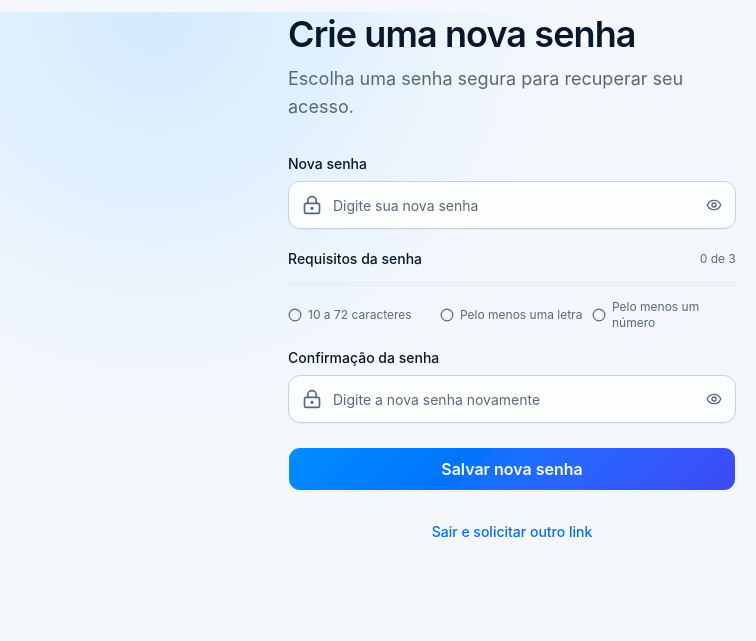
it: UpdatePasswordForm › shows safe feedback for invalid_fields
Type "nova-senha1" into the password field labelled "Nova senha". click: x=512, y=205
box: [288,181,736,229]
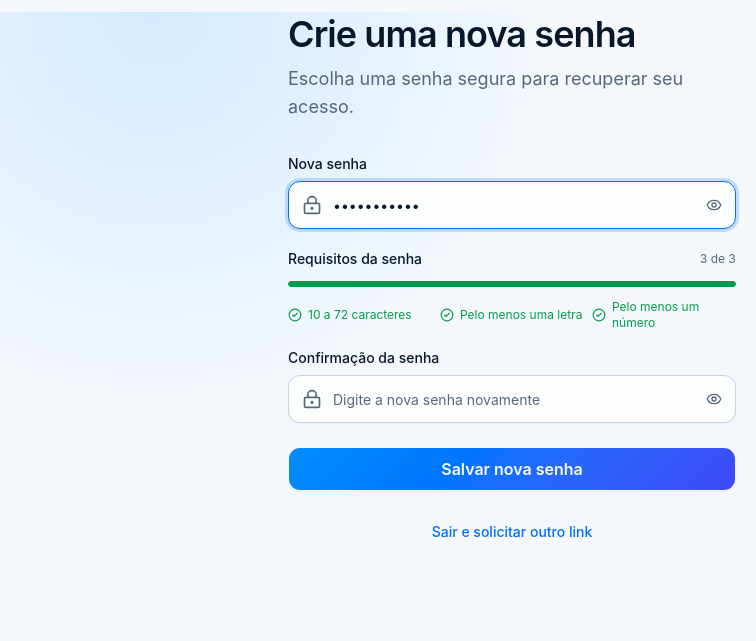
Type "nova-senha1" into the password field labelled "Confirmação da senha". click: x=512, y=399
box: [288,375,736,423]
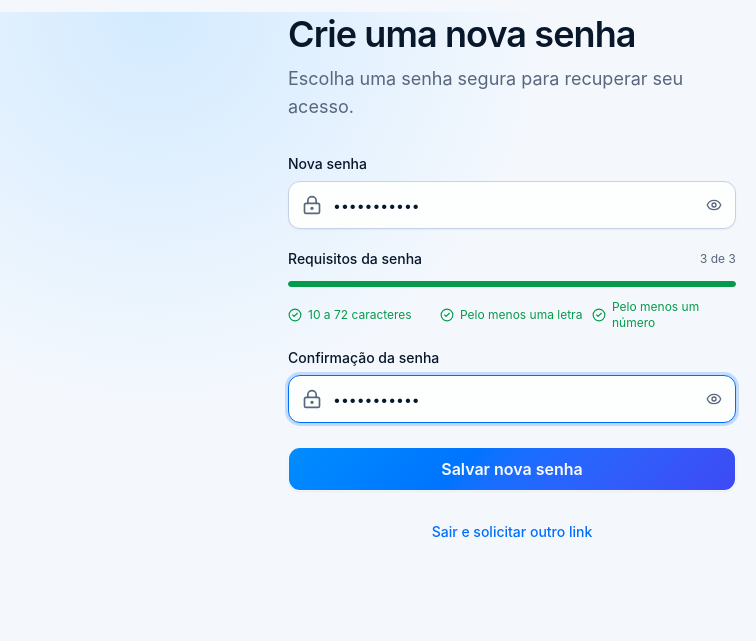
Click the button "Salvar nova senha". click: x=512, y=469
box: [288,447,736,491]
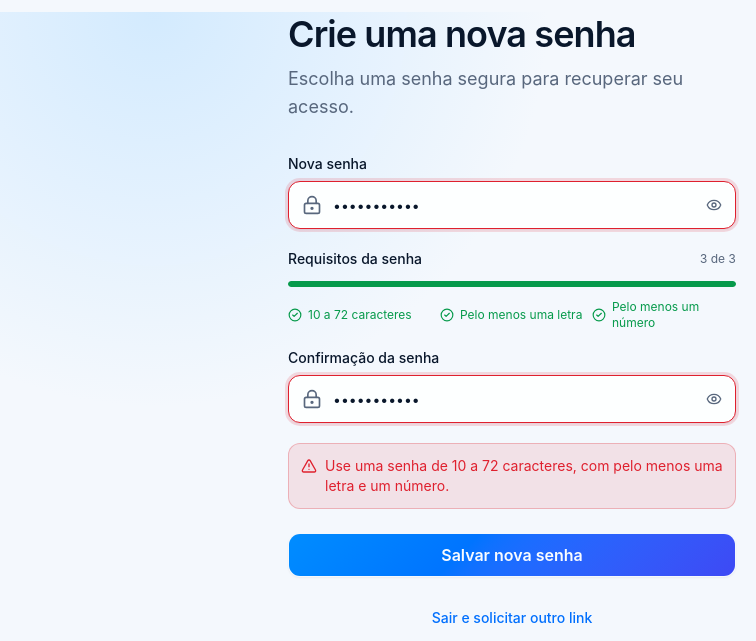
Now the message shows "Use uma senha de 10 a 72 caracteres, com pelo menos uma letra e um número", box [325,457,723,494]
